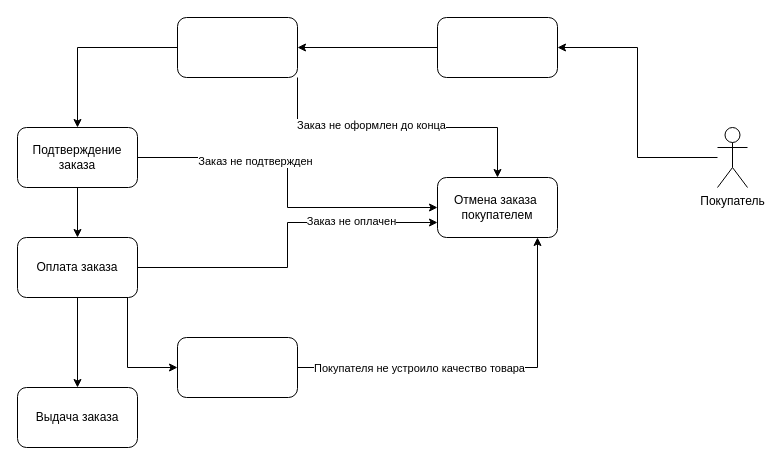
Image size: 782x465. Some labels were removed from this diagram. The shapes that lost their labels are listed below. From the top down, each one's box as (x1, y1, x2, y2) in pixels, then its label:
(176, 16, 298, 78): Оформление заказа
(436, 16, 558, 78): Добавление заказа
(176, 336, 298, 398): Возврат оплаты
